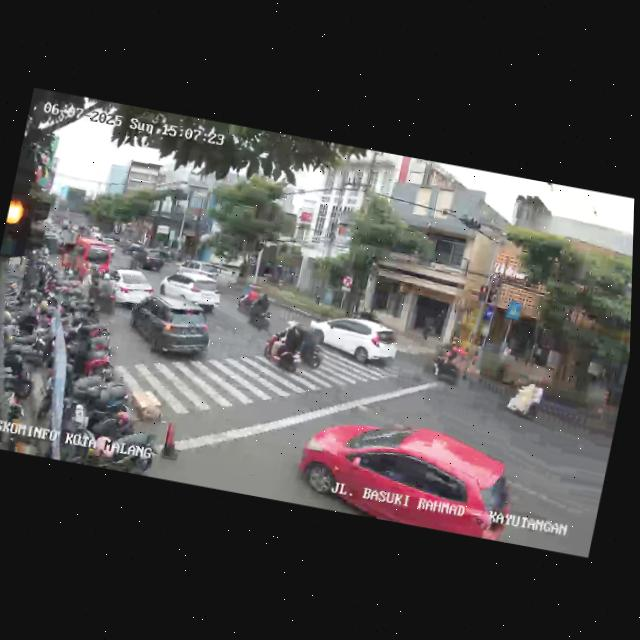car: (289, 406, 522, 541), (123, 291, 218, 366), (314, 309, 401, 373), (153, 268, 228, 318), (101, 266, 162, 310), (65, 234, 115, 284), (176, 255, 232, 287), (128, 244, 168, 274)
motorcycle: (259, 313, 331, 380), (421, 339, 473, 393), (502, 372, 546, 425), (244, 286, 277, 332), (233, 279, 262, 316)
